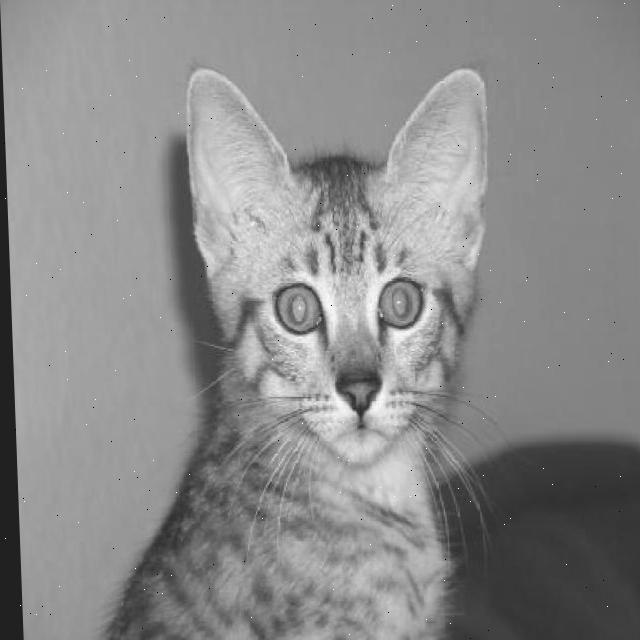Cat: (92, 63, 508, 639)
